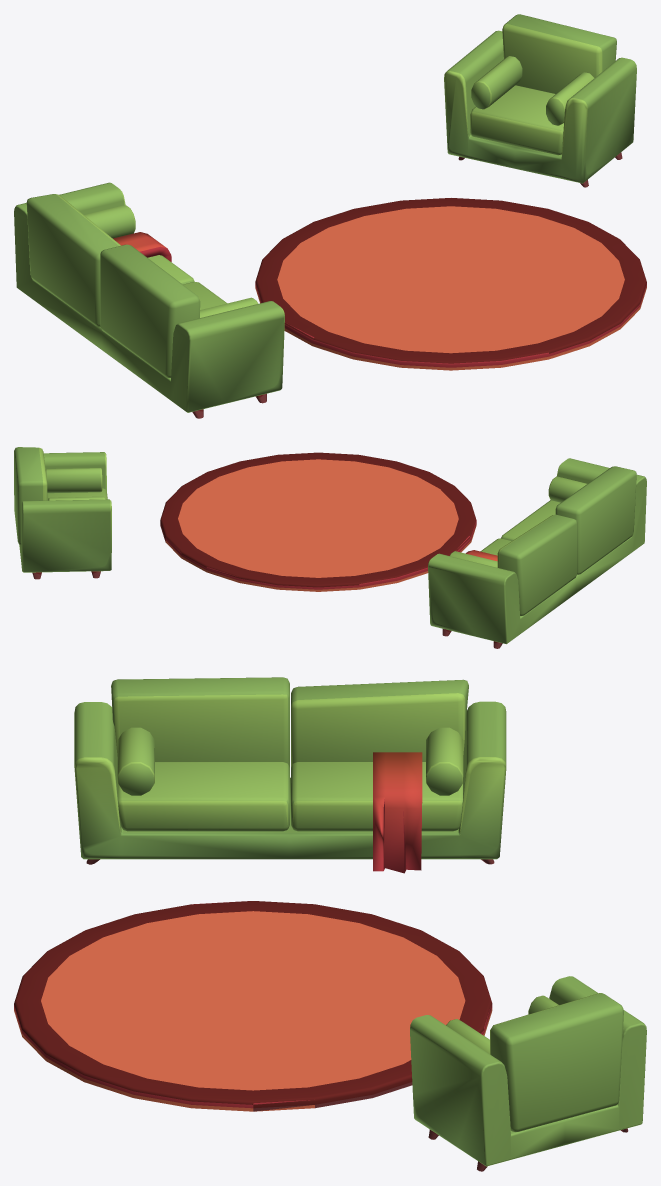
Rendered from christmas_furniture.fbx.
3 views of the same model, one above another, from view 1: azimuth 30°, elevation 25°; view 2: azimuth 150°, elevation 25°; view 3: azimuth 270°, elevation 25° (orthographic). The views are drawn at different scales.
Visible parts, largest first — view 1: Circle_ColorSprite_E_0, Couch_ColorSprite_E_0, S_Couch_ColorSprite_E_0; view 2: Circle_ColorSprite_E_0, Couch_ColorSprite_E_0, S_Couch_ColorSprite_E_0; view 3: Circle_ColorSprite_E_0, Couch_ColorSprite_E_0, S_Couch_ColorSprite_E_0.
Part boxes in pixels (x1,y1,x2,y2): Circle_ColorSprite_E_0: [255, 198, 646, 370]; Couch_ColorSprite_E_0: [14, 182, 284, 418]; S_Couch_ColorSprite_E_0: [444, 14, 636, 187]; Circle_ColorSprite_E_0: [160, 452, 476, 591]; Couch_ColorSprite_E_0: [428, 458, 646, 648]; S_Couch_ColorSprite_E_0: [14, 447, 111, 579]; Circle_ColorSprite_E_0: [14, 901, 492, 1111]; Couch_ColorSprite_E_0: [74, 677, 506, 873]; S_Couch_ColorSprite_E_0: [410, 976, 646, 1171].
Size of the model in its own units: 1285 by 227 by 934.
